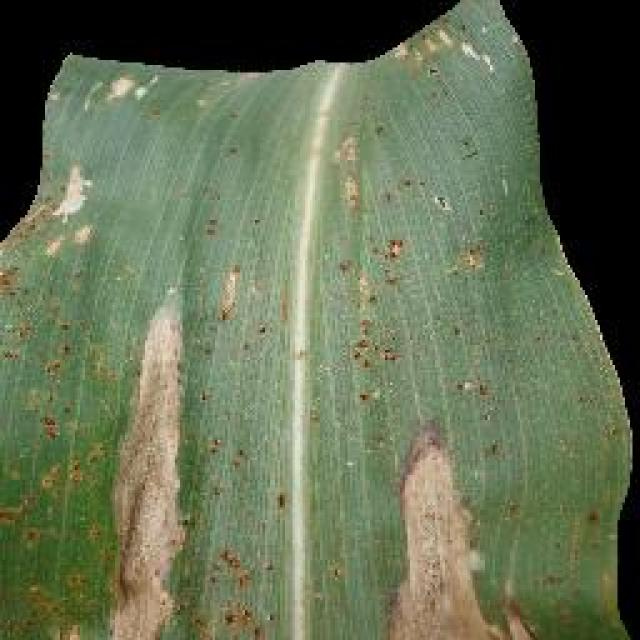Corn___Common_rust: (0, 192, 525, 640)
